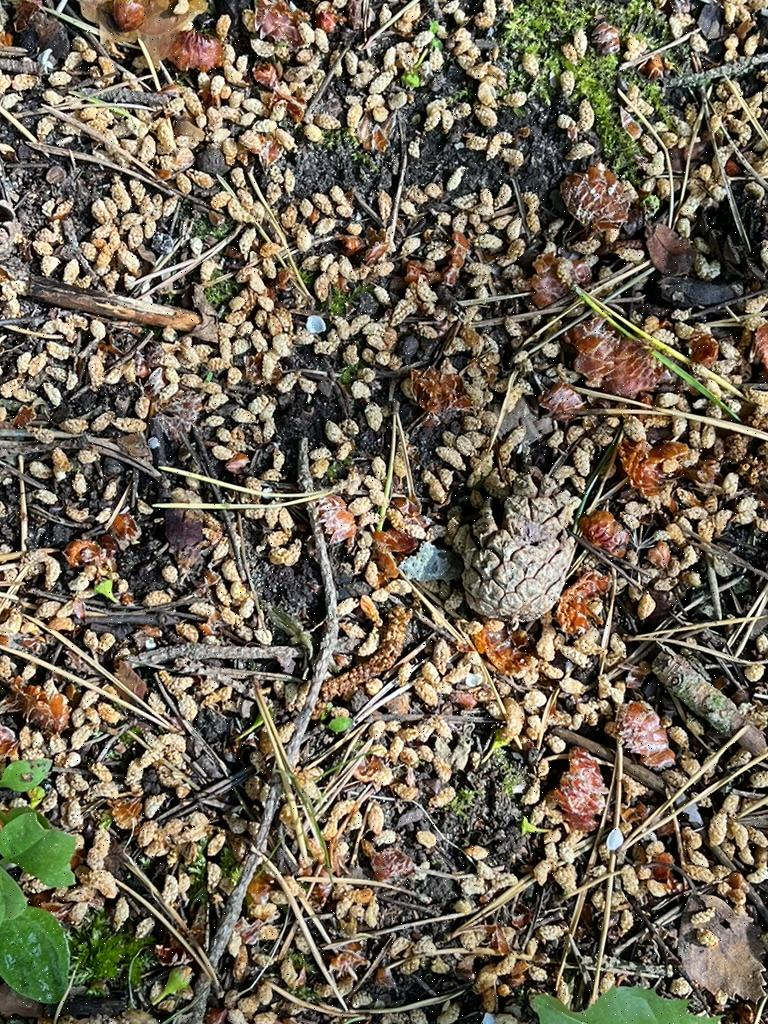pine: (446, 466, 581, 646)
